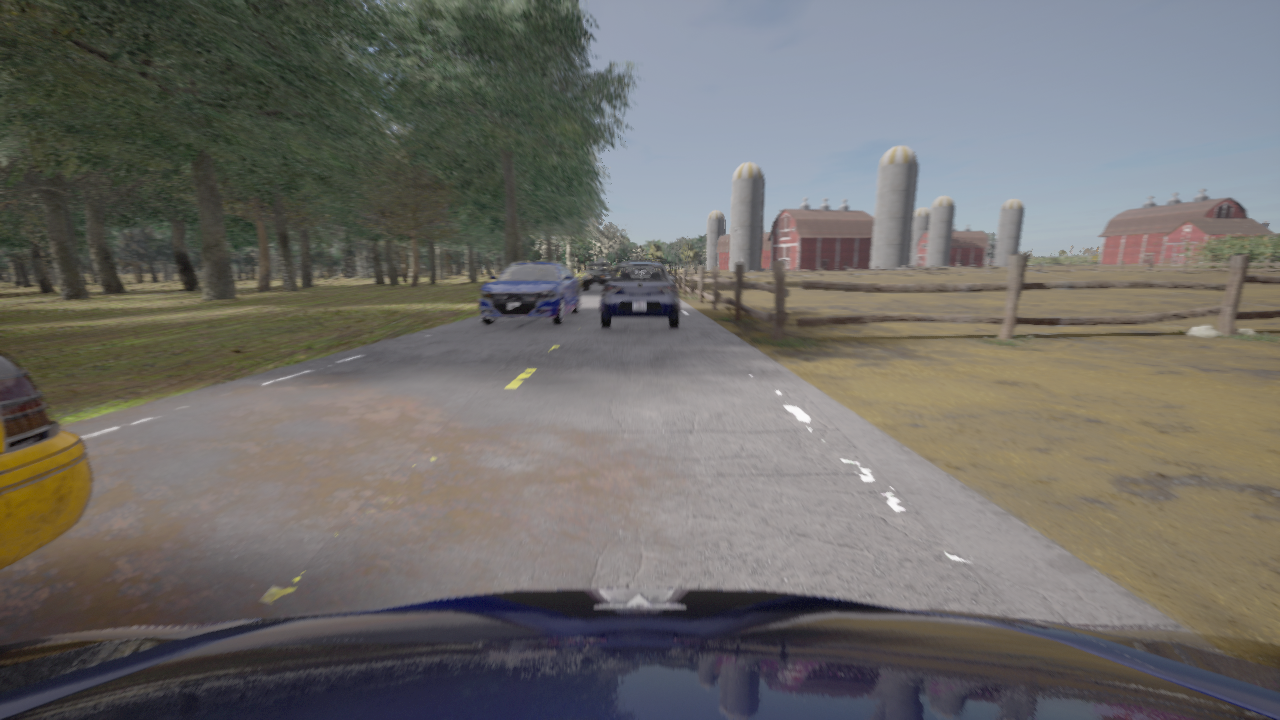cyclist: (0, 588, 1279, 719), (479, 262, 580, 324), (600, 262, 679, 328), (582, 263, 610, 291)
